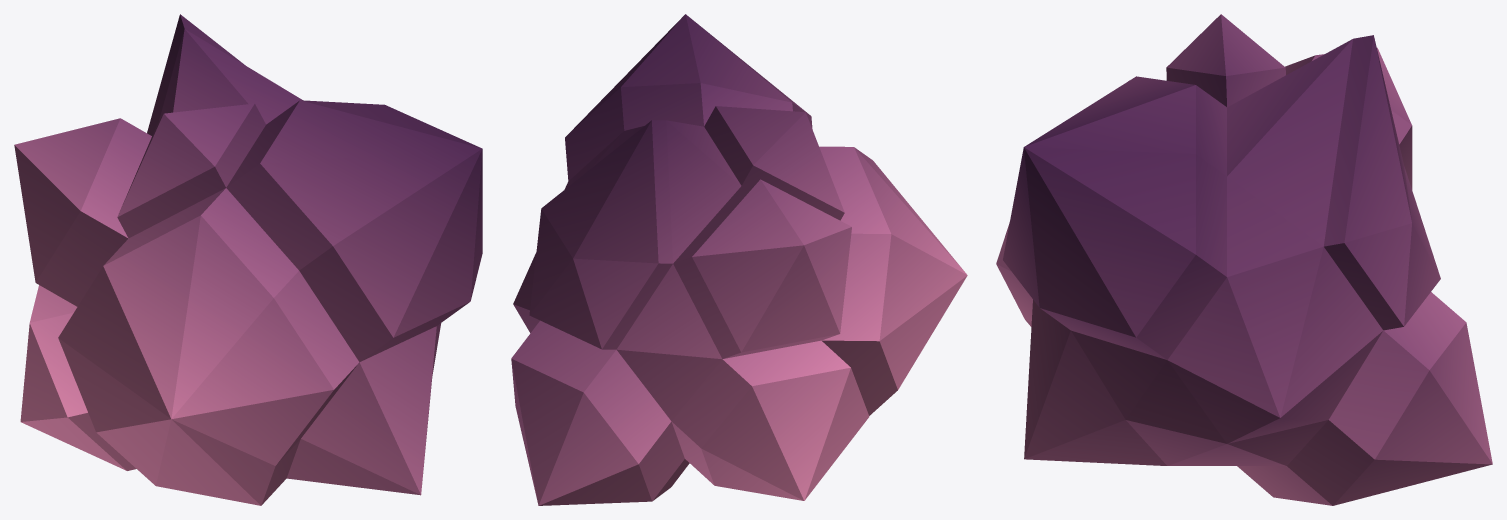
File: Amethyst.fbx
3 renders of one model, left to right at view 1: azimuth 30°, elevation 25°; view 2: azimuth 150°, elevation 25°; view 3: azimuth 270°, elevation 25°, orthographic. The views are drawn at different scales.
Visible parts, largest first — view 1: AMETHYST.001; view 2: AMETHYST.001; view 3: AMETHYST.001.
Part boxes in pixels (x1,y1,x2,y2): AMETHYST.001: (14, 14, 482, 505); AMETHYST.001: (511, 14, 967, 505); AMETHYST.001: (996, 14, 1492, 505).
Bounding box in the file's own units: 203 × 225 × 226.
1 material, 1 textured.
